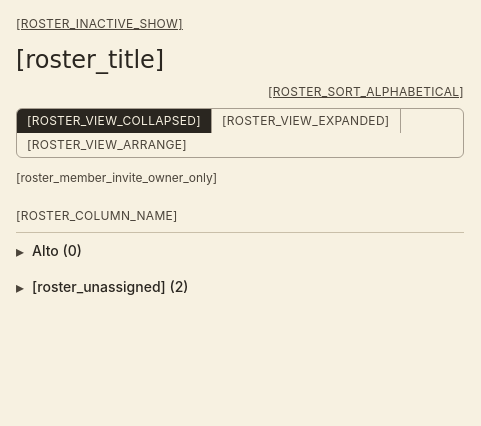
Test: (A/B) fail-LOUD — no lifecycle failure is allowed to be silent › a rejected REINSTATE surfaces a role=alert next to that inactive row — otherwise the tap produces no visible change at all
Click the button with test id "roster-inactive-toggle" at [99, 24], box [16, 16, 183, 32]
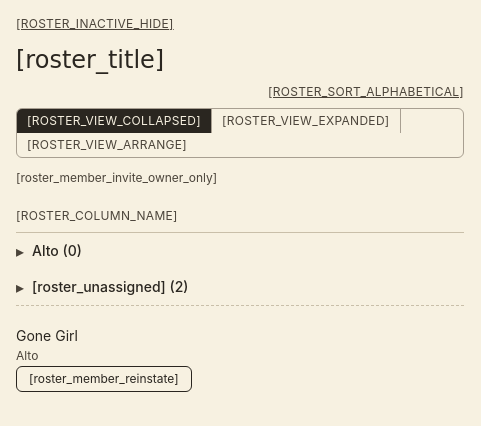
Check: the button with test id "member-reinstate-m9" is shown
Click the button with test id "member-reinstate-m9" at [104, 379], box [16, 366, 192, 392]
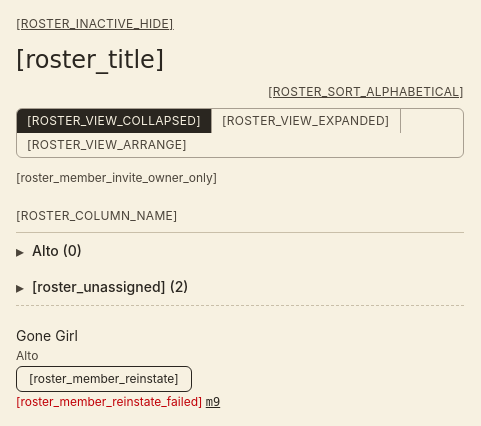
Check: the message "[roster_member_reinstate_failed] m9" is shown, box [16, 394, 220, 409]
Check: the number of links is 1, box [206, 395, 220, 409]
Check: the link "m9" is shown, box [206, 395, 220, 409]
